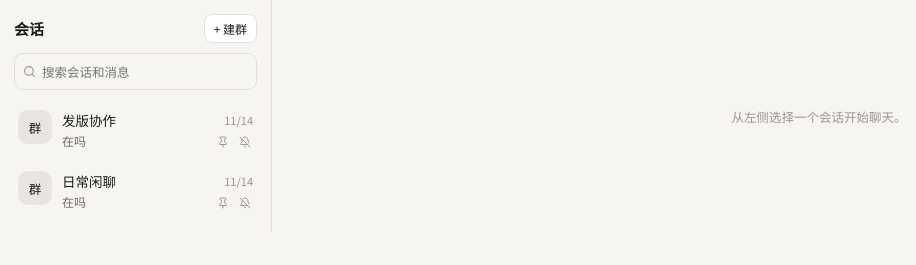
Test: 会话搜索框 › 没有命中时给出明确提示，而不是空白一片
The width and height of the screenshot is (916, 265).
Type "绝不可能命中的词" into the field labelled "搜索会话和消息" at (136, 72), box [14, 53, 257, 90]
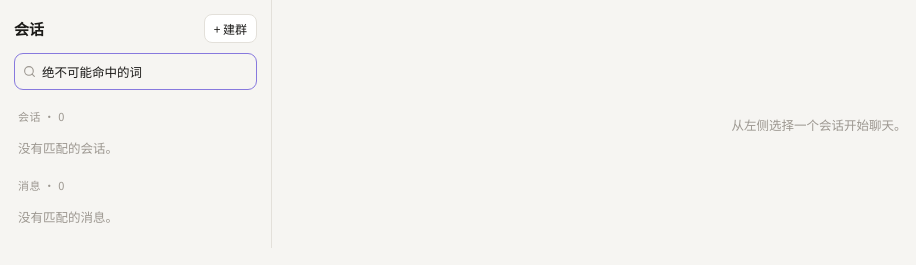
expect the text "没有匹配的消息。" is shown: met, box [18, 207, 118, 226]
